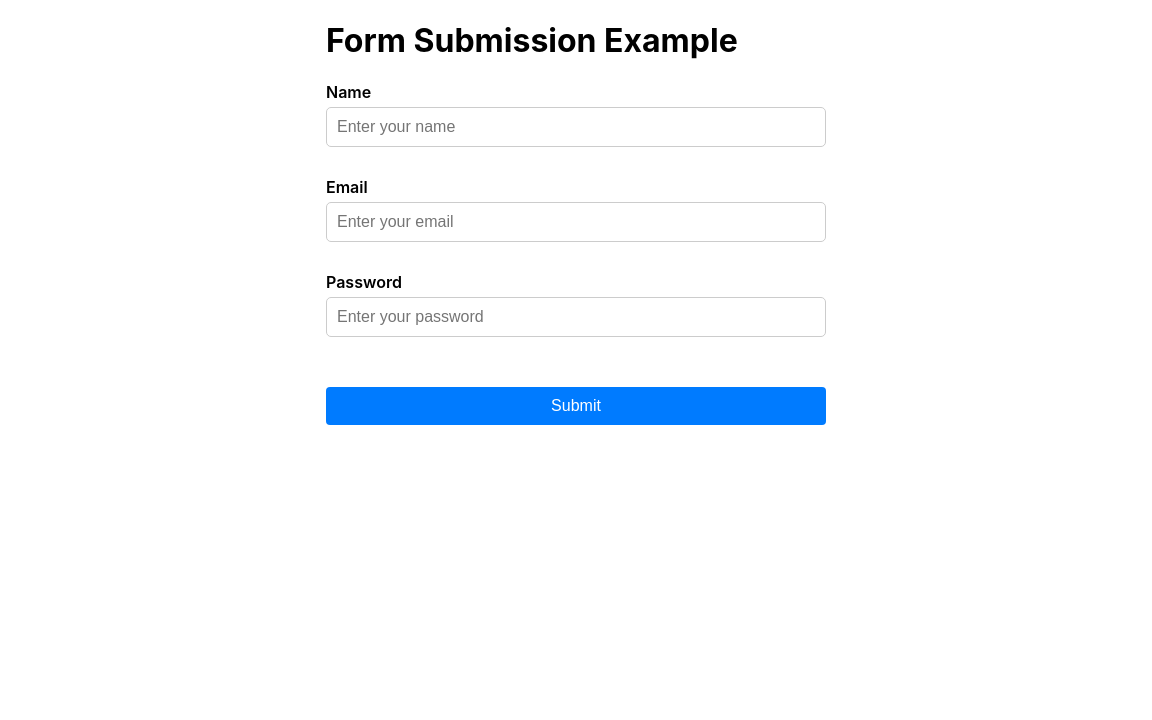
Test: App Component › renders the form and submits valid data
The image size is (1152, 720).
# Fill in the form fields
Type "John Doe" into the field with placeholder "Enter your name".
click(576, 127); type("John Doe")  # box x1=326 y1=107 x2=826 y2=147
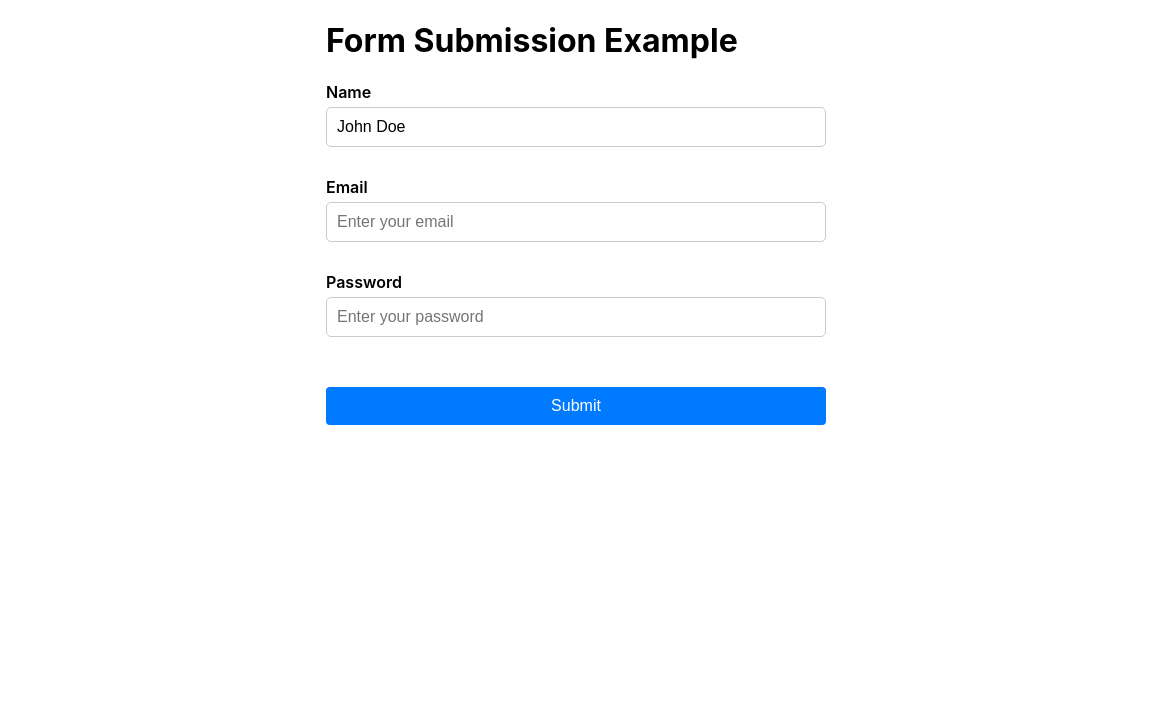
Type "john.doe@example.com" into the field with placeholder "Enter your email".
click(576, 222); type("john.doe@example.com")  # box x1=326 y1=202 x2=826 y2=242
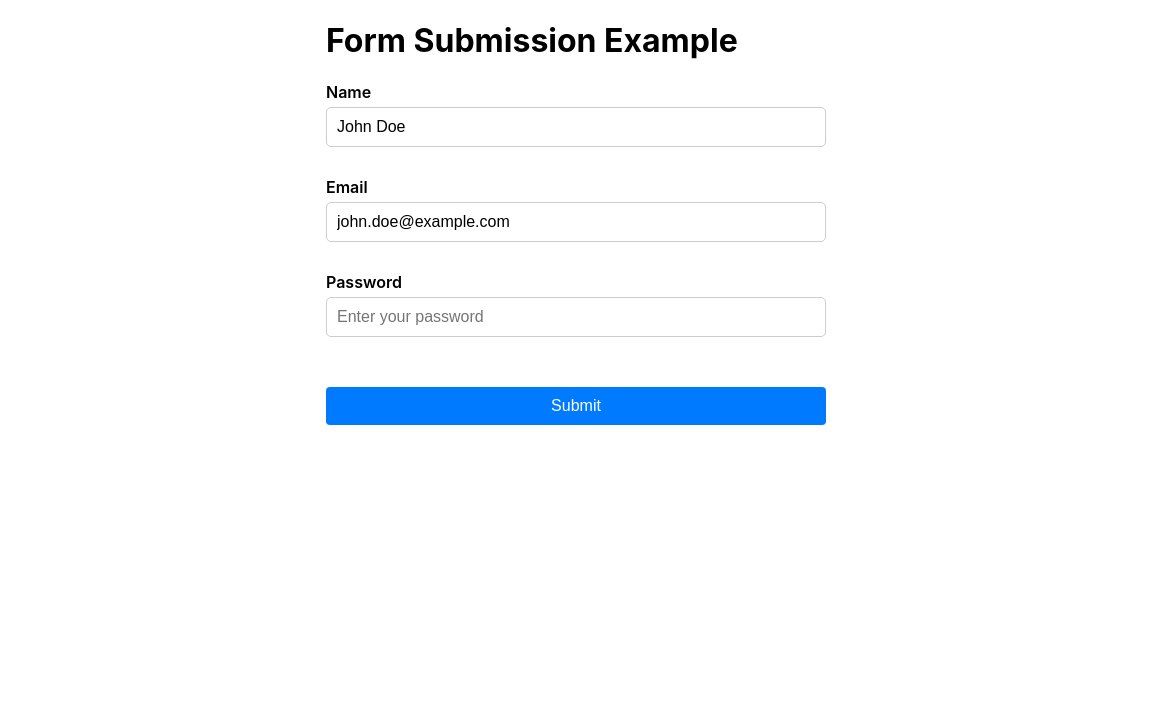
Type "password123" into the password field with placeholder "Enter your password".
click(576, 317); type("password123")  # box x1=326 y1=297 x2=826 y2=337
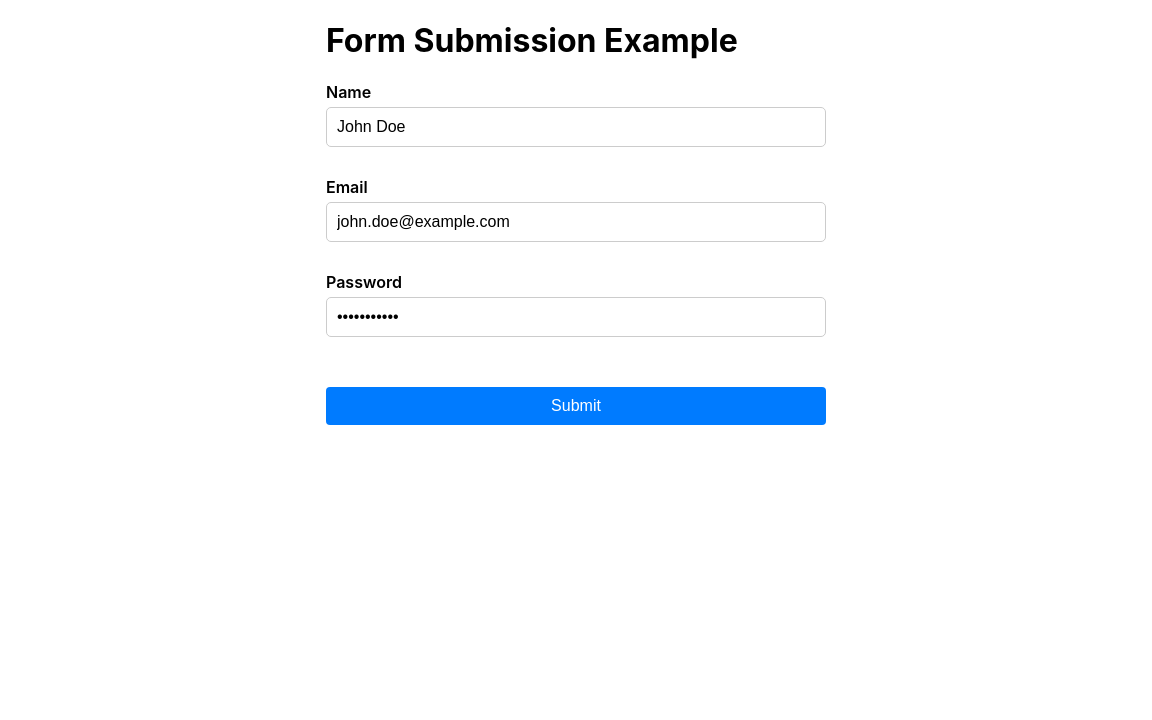
# Submit the form
Click the button "Submit".
click(576, 406)  # box x1=326 y1=387 x2=826 y2=425
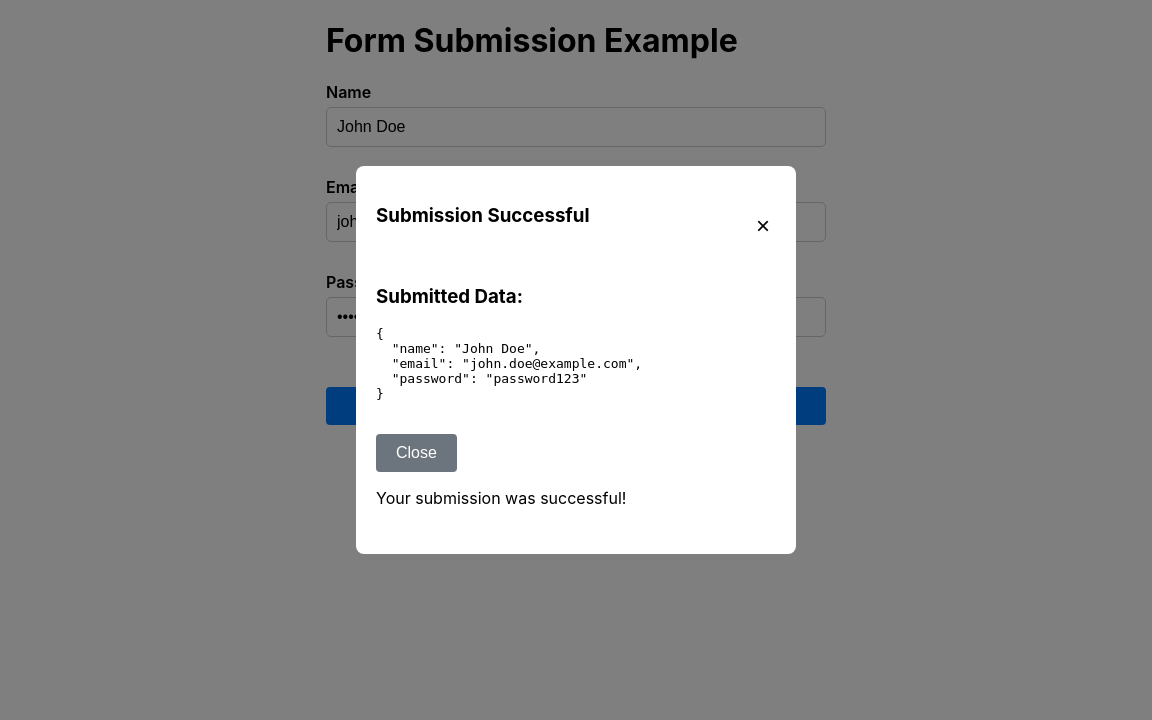
Result: the heading "Submission Successful" is shown at x1=376 y1=204 x2=590 y2=227
Result: the heading "Submitted Data:" is shown at x1=376 y1=285 x2=523 y2=308
Result: the text "\"password\": \"password123\"" is shown at x1=376 y1=326 x2=642 y2=401
